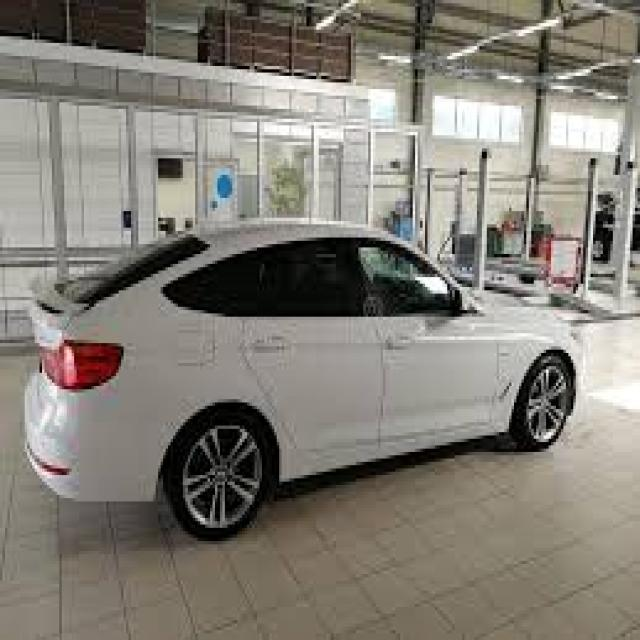car: (18, 220, 583, 516)
